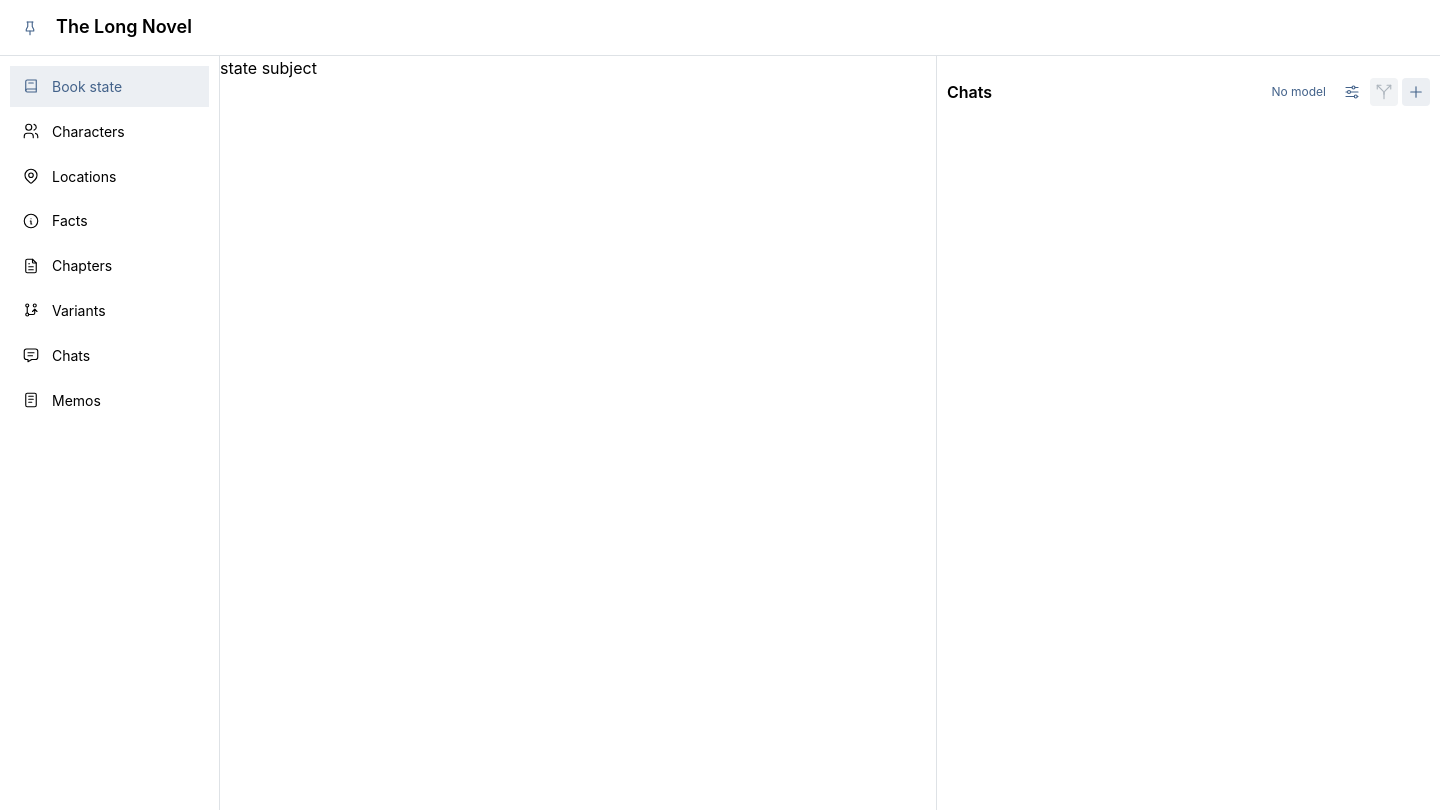
Test: WorkspaceShell › DoD-7: navigating between two subjects under the same book id does not remount the shell — the book loads exactly once
Expected: the text "state subject" is shown, top-left (220, 58), bottom-right (317, 78)
Navigate to a sibling subject under the same book id via the in-SPA link.
Click the link "Chapters" at (67, 266), box top-left (22, 257), bottom-right (112, 275)
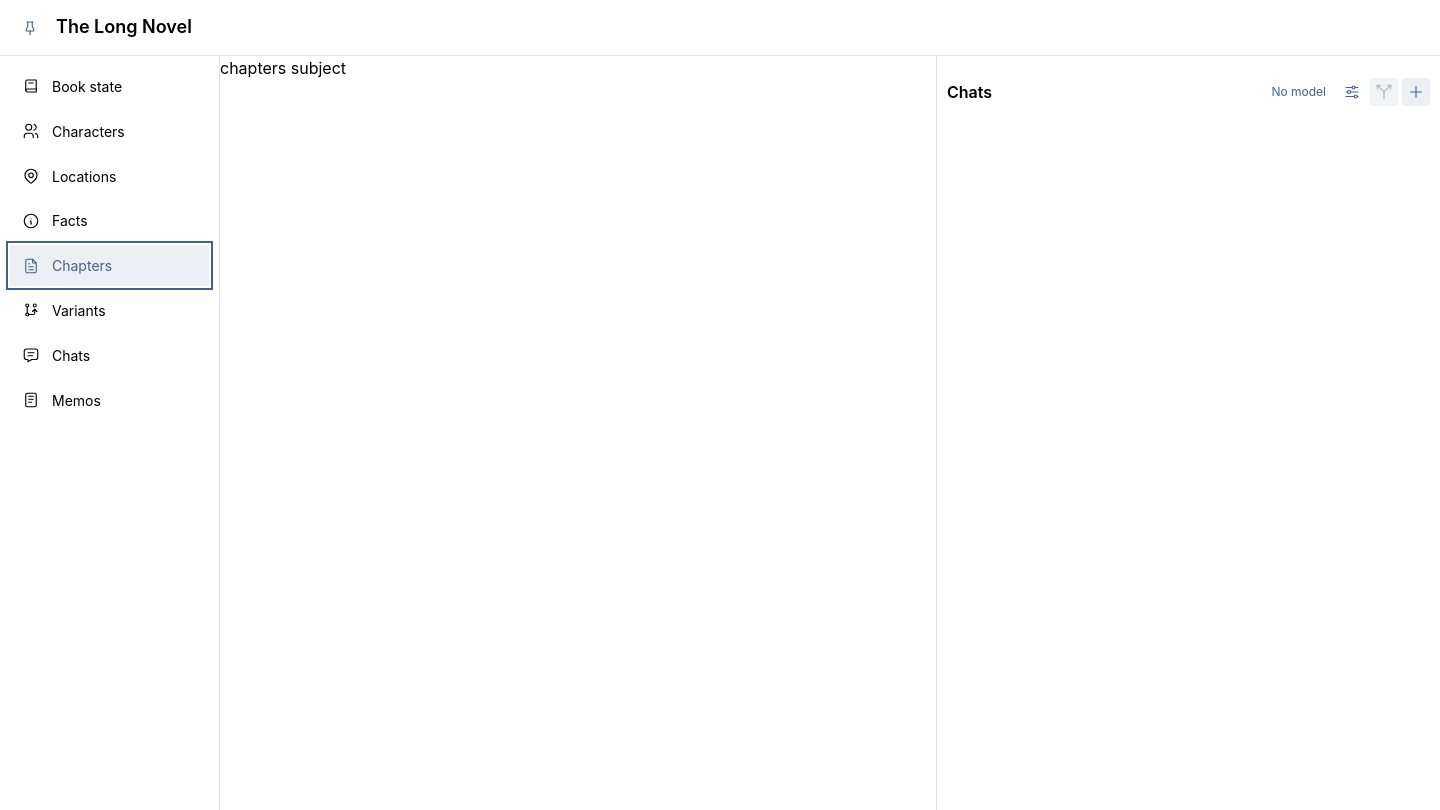
Expected: the text "chapters subject" is shown, top-left (220, 58), bottom-right (346, 78)
